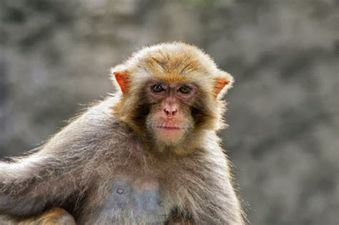monkey: (46, 18, 269, 223)
